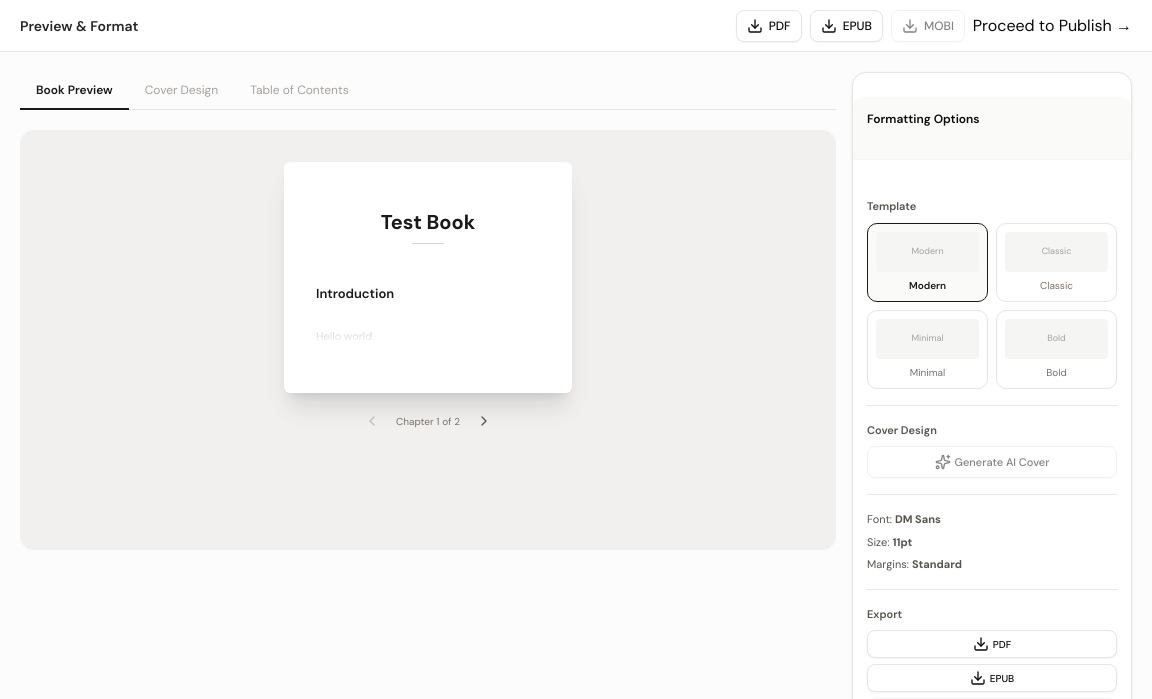
Test: PreviewWrapper › switches to Cover Design tab
Click the button "Cover Design" at {"x": 181, "y": 91}, box x1=129 y1=72 x2=234 y2=110
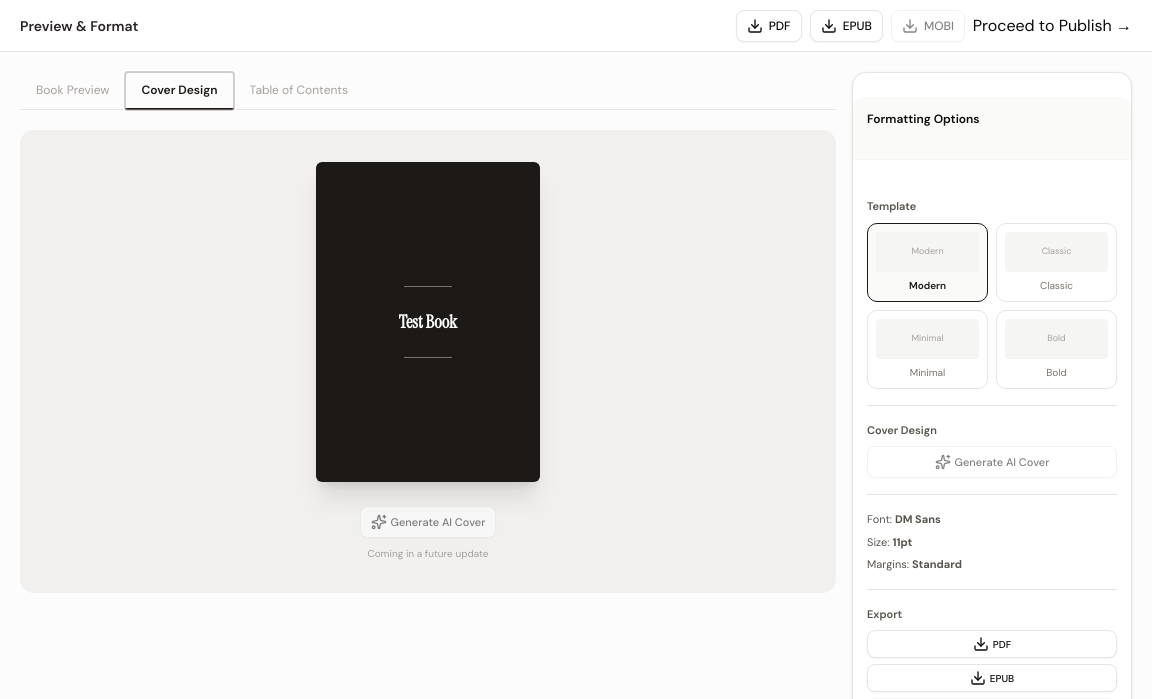
Expected: the text "Coming in a future update" is shown, x1=360 y1=546 x2=496 y2=561
